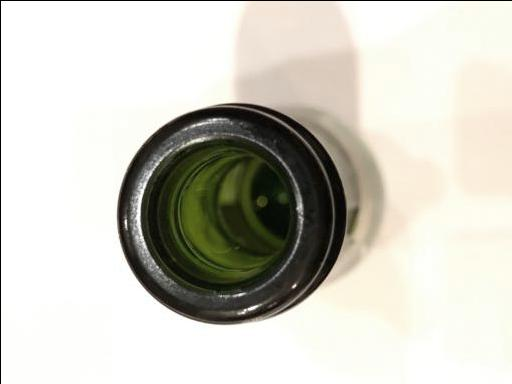glass: (115, 102, 383, 326)
sodocalcique: (115, 102, 383, 326)
